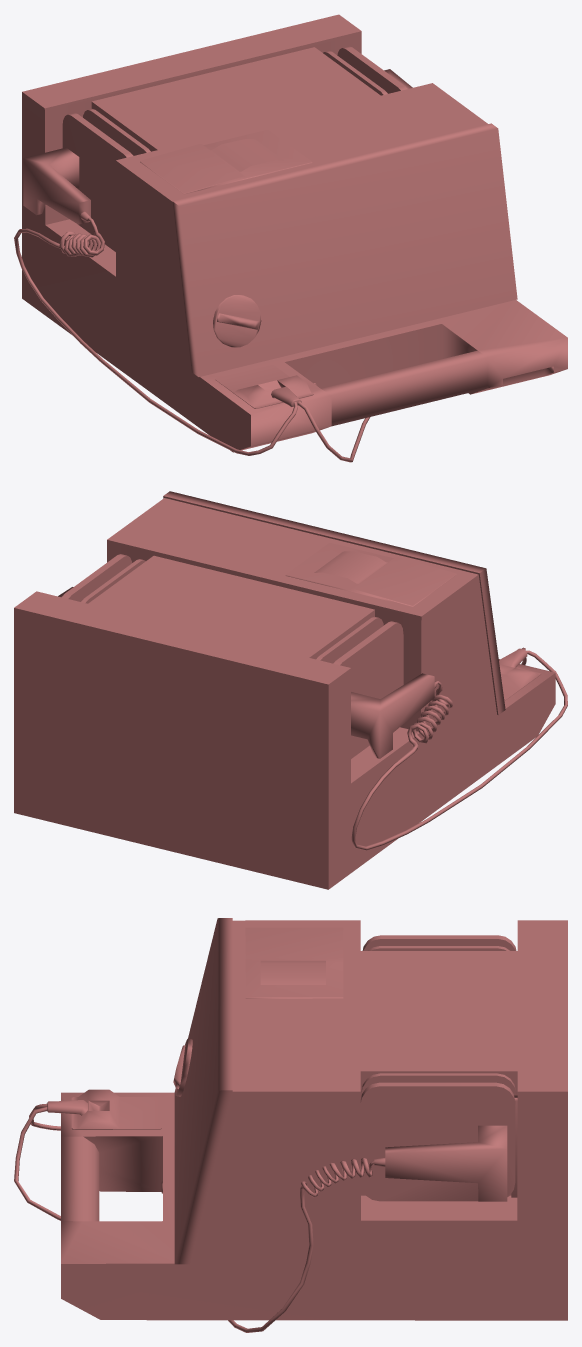
The model's file is SM_Defibrillator_02b.FBX.
The picture shows the model from 3 angles, top to bottom: view 1: azimuth 30°, elevation 25°; view 2: azimuth 150°, elevation 25°; view 3: azimuth 270°, elevation 25°; orthographic projection. The views are drawn at different scales.
Parts seen in each view (by area): view 1: SM_Defibrillator_02b_LOD0; view 2: SM_Defibrillator_02b_LOD0; view 3: SM_Defibrillator_02b_LOD0.
Part boxes in pixels (x1=…): SM_Defibrillator_02b_LOD0: x1=14, y1=14, x2=567, y2=462; SM_Defibrillator_02b_LOD0: x1=14, y1=491, x2=567, y2=889; SM_Defibrillator_02b_LOD0: x1=14, y1=918, x2=567, y2=1332.
Size of what is drawn, in the model's own units: 36.11 by 21.8 by 41.75.
